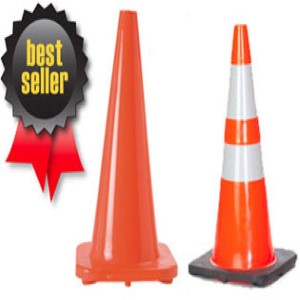traffic cone: (187, 23, 297, 287), (75, 9, 177, 287)
